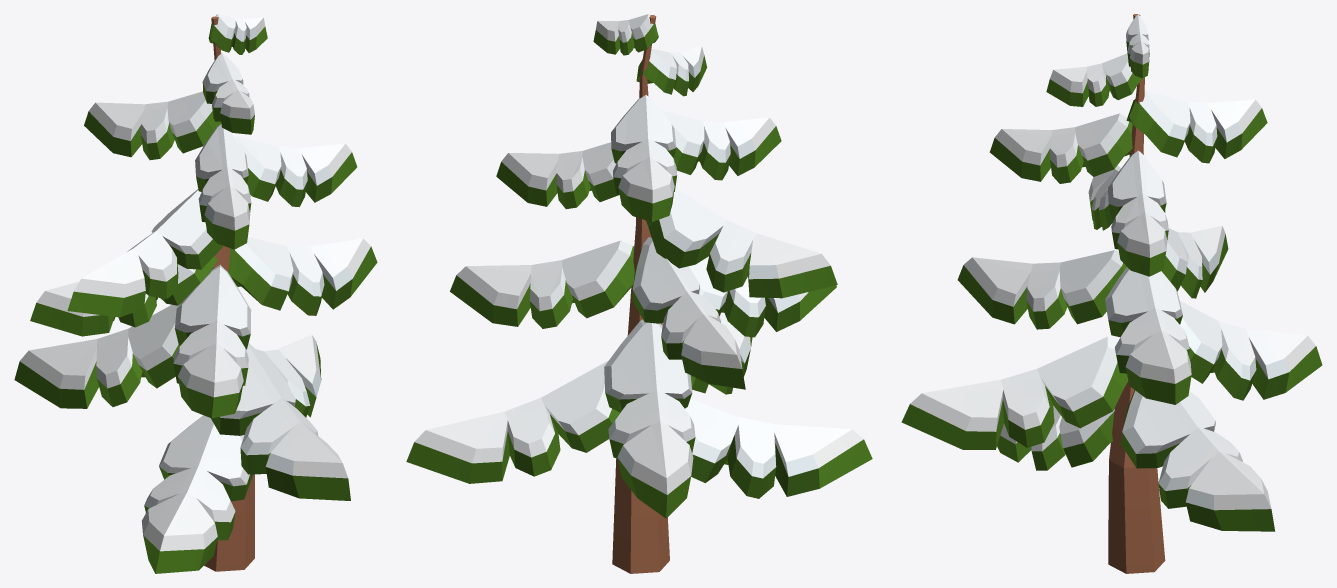
File: snowtree02.glb
3 views of the same model, side by side, from view 1: azimuth 30°, elevation 25°; view 2: azimuth 150°, elevation 25°; view 3: azimuth 270°, elevation 25° (orthographic).
Parts seen in each view (by area): view 1: snowtree02; view 2: snowtree02; view 3: snowtree02.
Part boxes in pixels (bbox=[...]): snowtree02: bbox=[14, 14, 377, 573]; snowtree02: bbox=[406, 14, 872, 573]; snowtree02: bbox=[901, 14, 1322, 573].
Bounding box in the file's own units: 3.24 × 4.87 × 3.42.
1 material, 1 textured.
